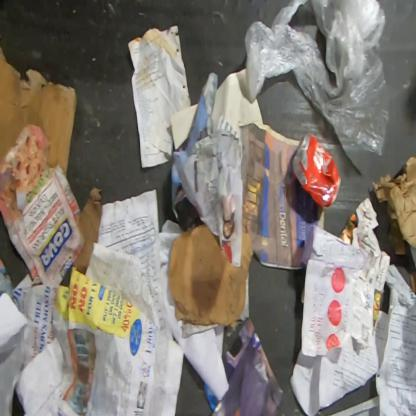cardboard: (0, 124, 86, 286), (0, 46, 78, 176), (167, 222, 254, 328), (338, 197, 390, 328), (73, 187, 103, 275)
metal: (292, 132, 342, 208)
soft_plastic: (243, 0, 392, 158)
